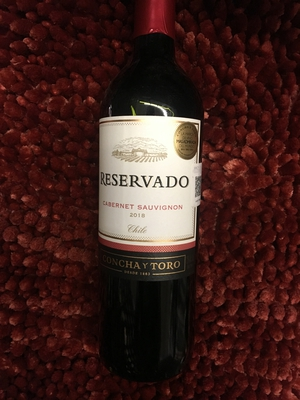reservado cabernet sauvignon: (88, 1, 216, 382)
